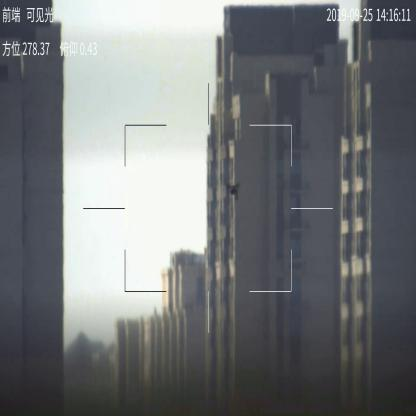uav: (226, 180, 240, 200)
